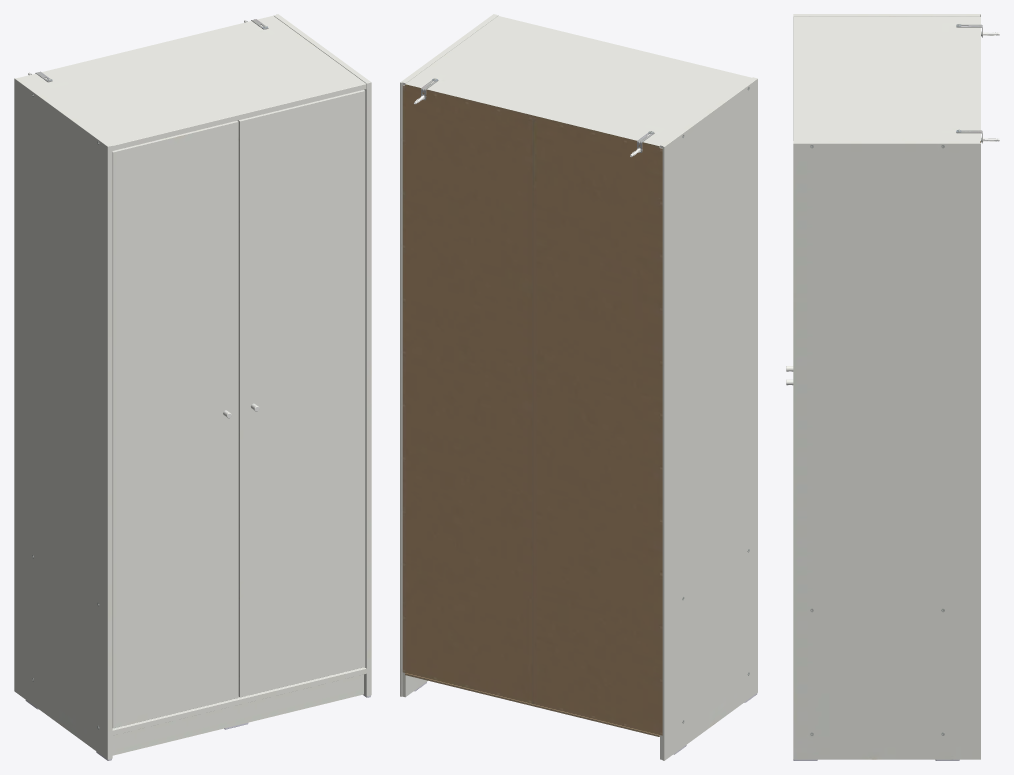
3 views of the same model, side by side, from view 1: azimuth 30°, elevation 25°; view 2: azimuth 150°, elevation 25°; view 3: azimuth 270°, elevation 25° (orthographic).
Visible parts, largest first — view 1: Mesh_0; view 2: Mesh_0; view 3: Mesh_0.
Part boxes in pixels (x1,y1,x2,y2): Mesh_0: [14, 14, 371, 760]; Mesh_0: [400, 14, 757, 760]; Mesh_0: [786, 14, 999, 760].
Size of the model in its own units: 0.7901 by 1.76 by 0.5501.
1 material, 1 textured.
